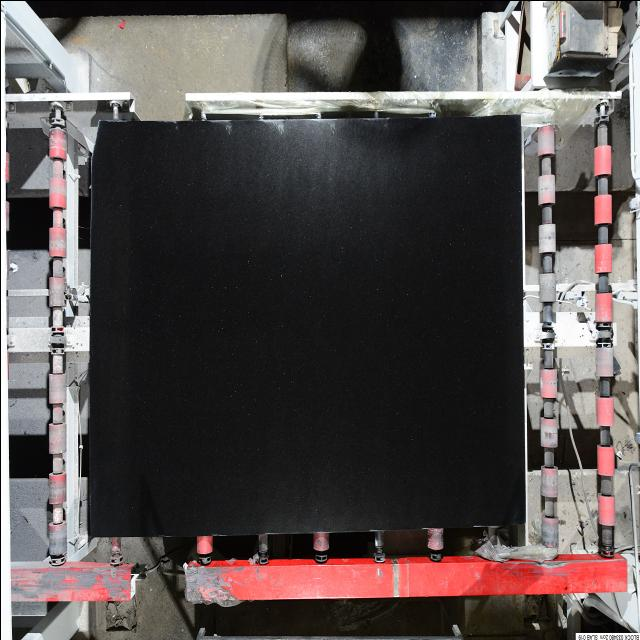chapa: (89, 115, 524, 535)
